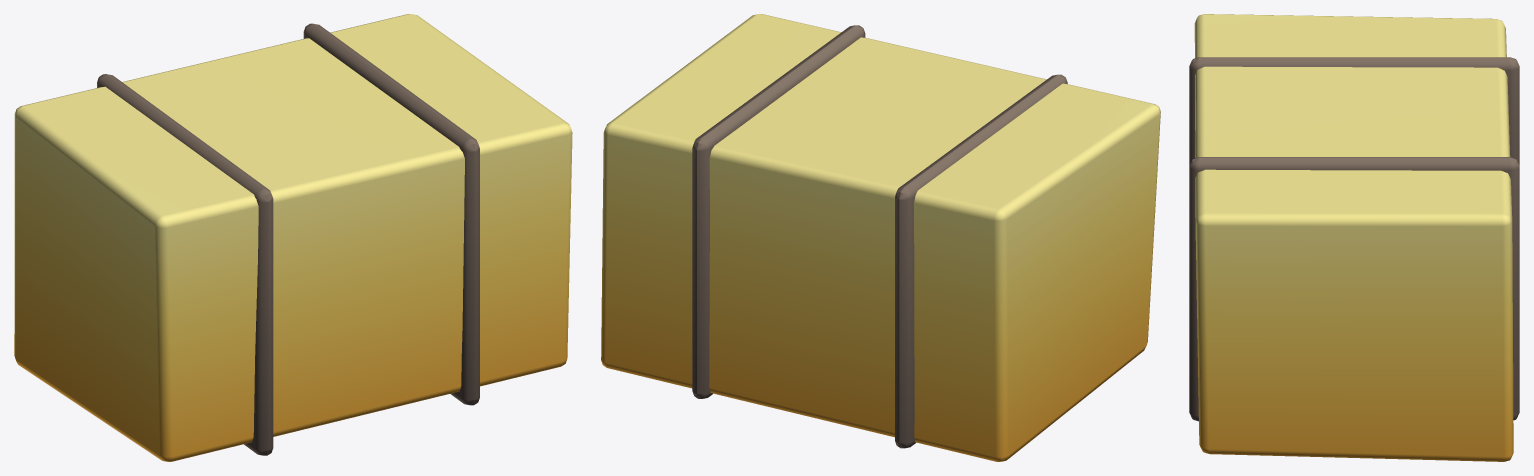
The model's file is hay_bale.glb.
3 views of the same model, side by side, from view 1: azimuth 30°, elevation 25°; view 2: azimuth 150°, elevation 25°; view 3: azimuth 270°, elevation 25° (orthographic). The views are drawn at different scales.
Visible parts, largest first — view 1: hay_bale; view 2: hay_bale; view 3: hay_bale.
Boxes of the visible parts, bbox=[...] form: hay_bale: bbox=[14, 14, 572, 461]; hay_bale: bbox=[601, 14, 1160, 461]; hay_bale: bbox=[1189, 14, 1519, 461].
Bounding box in the file's own units: 1.21 × 0.74 × 0.84.
1 material, 1 textured.
